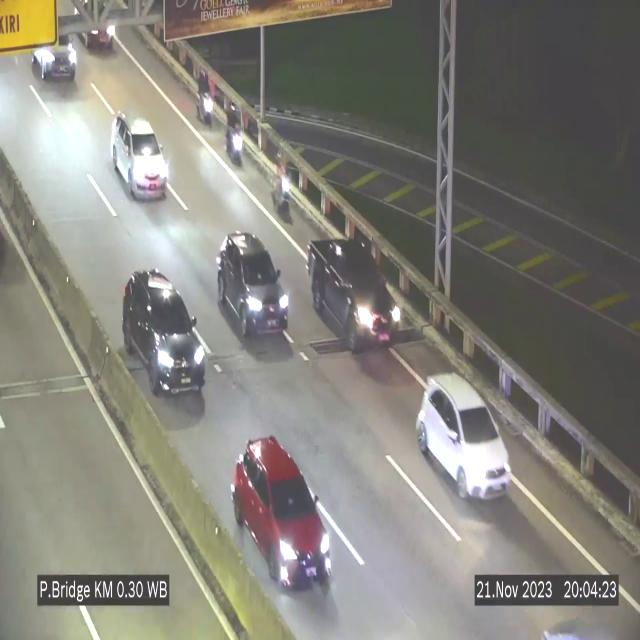Car: (232, 438, 332, 588), (416, 373, 512, 498), (306, 237, 403, 357), (122, 270, 206, 404), (217, 233, 291, 347), (111, 115, 168, 198), (29, 22, 83, 84)
Motorcycle: (266, 142, 294, 228), (226, 107, 244, 166), (197, 70, 215, 128)
